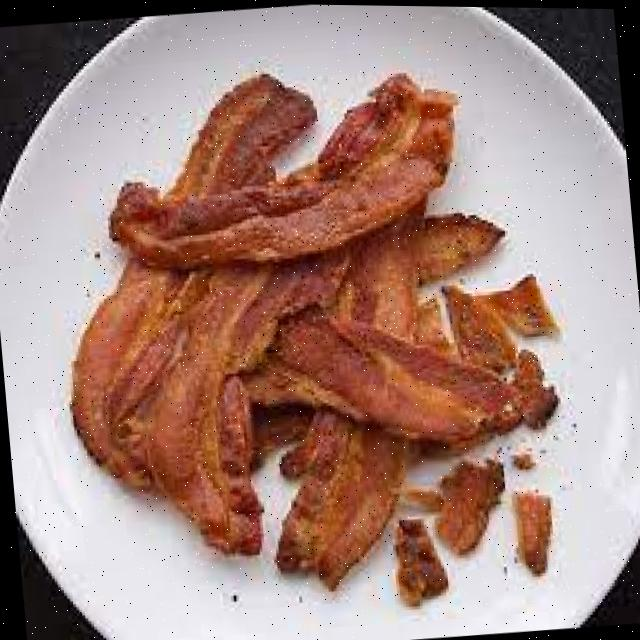Bacon: (110, 73, 454, 265), (139, 264, 269, 551), (244, 308, 517, 441), (71, 258, 209, 486), (275, 409, 404, 588), (167, 73, 316, 198)
